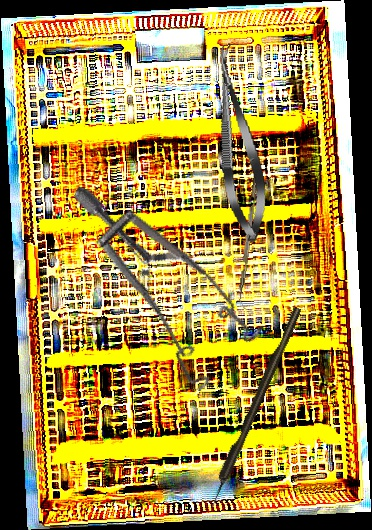Chopper: (235, 168, 266, 310)
Hook Surgical: (205, 306, 304, 508)
Micro Scissor: (202, 42, 274, 244)
Speculum: (24, 185, 288, 405)
